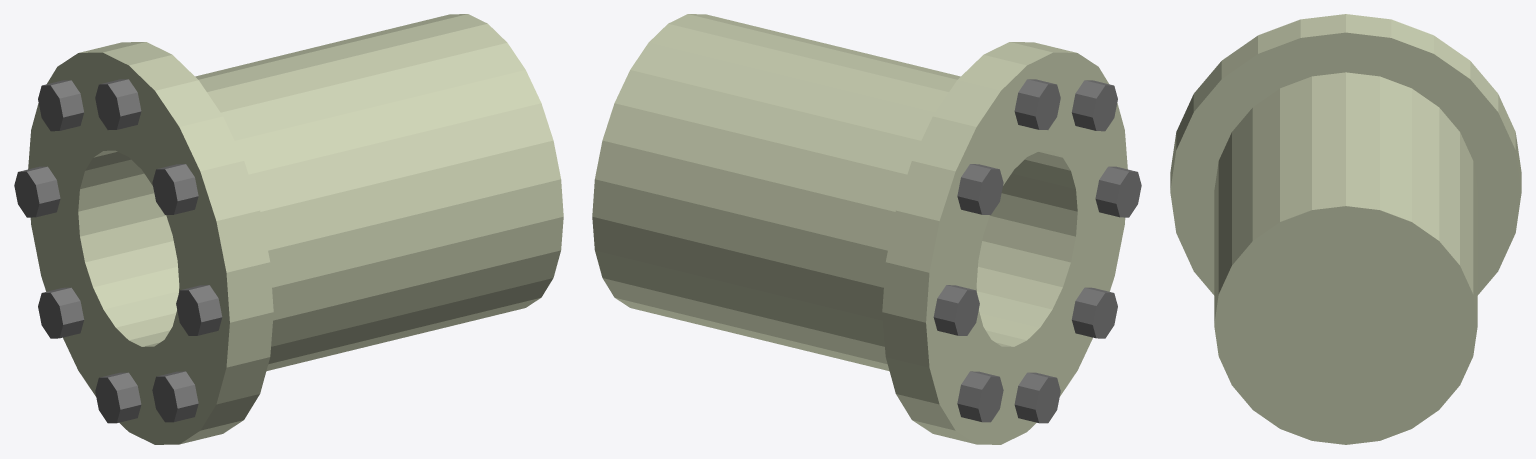
The model's file is pipe.obj.
3 renders of one model, left to right at view 1: azimuth 30°, elevation 25°; view 2: azimuth 150°, elevation 25°; view 3: azimuth 270°, elevation 25°, orthographic. The views are drawn at different scales.
Visible parts, largest first — view 1: unnamed_object1_default, unnamed_object1_bolts; view 2: unnamed_object1_default, unnamed_object1_bolts; view 3: unnamed_object1_default.
Part boxes in pixels (box(x1,y1,x2,y2)): unnamed_object1_default: box(28, 14, 563, 444); unnamed_object1_bolts: box(14, 79, 222, 423); unnamed_object1_default: box(592, 14, 1127, 444); unnamed_object1_bolts: box(933, 79, 1141, 423); unnamed_object1_default: box(1170, 14, 1521, 444).
Bounding box in the file's own units: 4.34 × 4 × 4.
